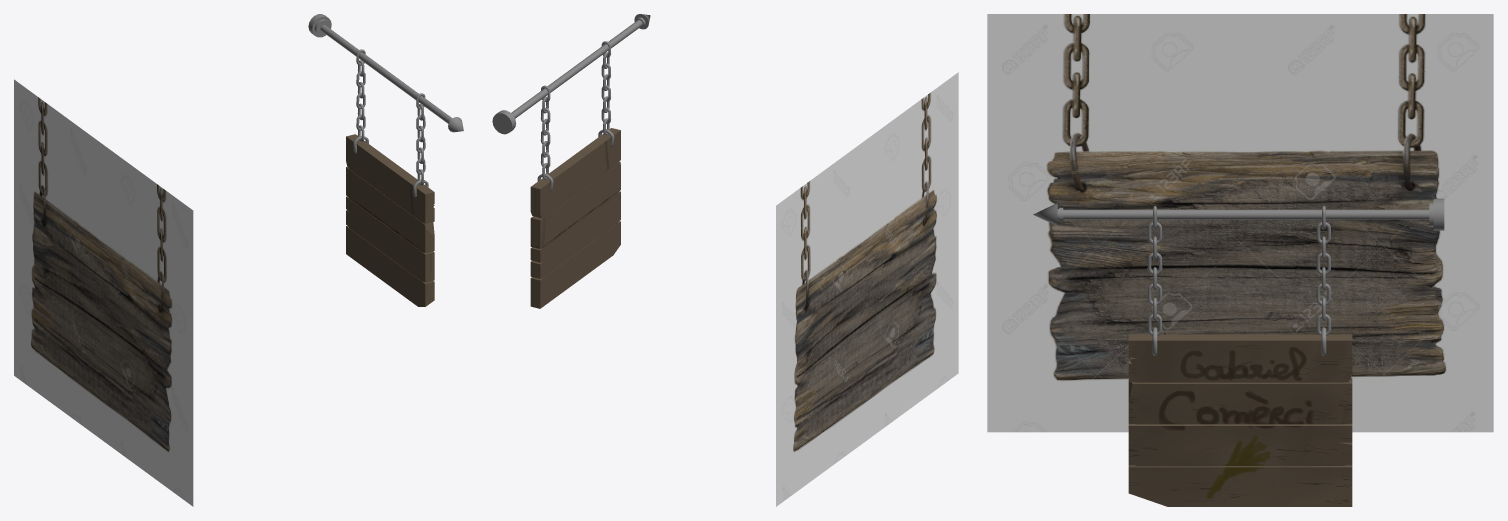
File: DevantureCommerce.glb
The picture shows the model from 3 angles, left to right: view 1: azimuth 30°, elevation 25°; view 2: azimuth 150°, elevation 25°; view 3: azimuth 270°, elevation 25°; orthographic projection. The views are drawn at different scales.
Parts seen in each view (by area): view 1: DevantureCommerce, Cube, Cylinder, Torus.002, Torus.001; view 2: DevantureCommerce, Cube, Cylinder, Torus.002, Torus.001; view 3: DevantureCommerce, Cube, Cylinder, Torus.001, Torus.002.
Boxes of the visible parts, bbox=[...] form: DevantureCommerce: bbox=[14, 79, 193, 506]; Cube: bbox=[346, 134, 434, 306]; Cylinder: bbox=[308, 14, 463, 132]; Torus.002: bbox=[353, 49, 368, 153]; Torus.001: bbox=[413, 93, 428, 197]; DevantureCommerce: bbox=[776, 72, 958, 506]; Cube: bbox=[530, 128, 620, 308]; Cylinder: bbox=[492, 14, 650, 134]; Torus.002: bbox=[537, 85, 553, 191]; Torus.001: bbox=[598, 41, 614, 146]; DevantureCommerce: bbox=[987, 14, 1493, 432]; Cube: bbox=[1128, 334, 1352, 506]; Cylinder: bbox=[1033, 198, 1444, 230]; Torus.001: bbox=[1147, 206, 1162, 355]; Torus.002: bbox=[1316, 206, 1331, 355].
Size of the model in its own units: 5.86 by 5.75 by 6.14.
3 materials, 2 textured.
